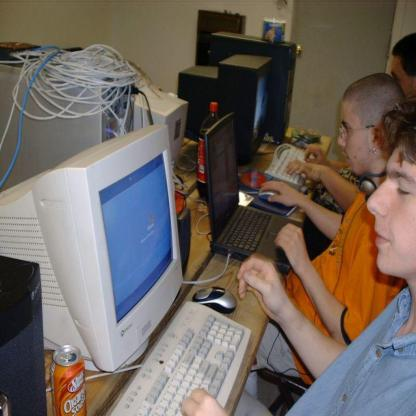board: (204, 112, 303, 275), (49, 344, 86, 416), (199, 101, 223, 202)
